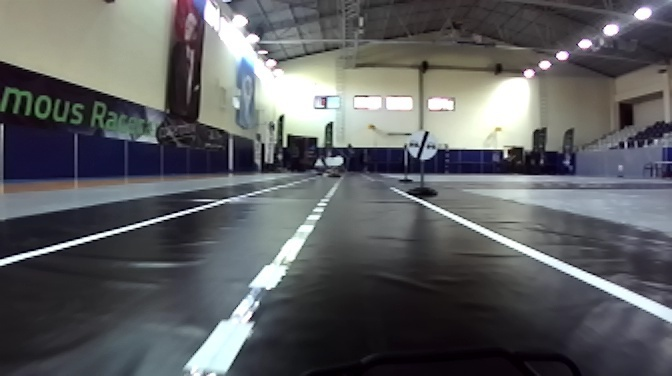sollama_serbest: (405, 130, 440, 160)
